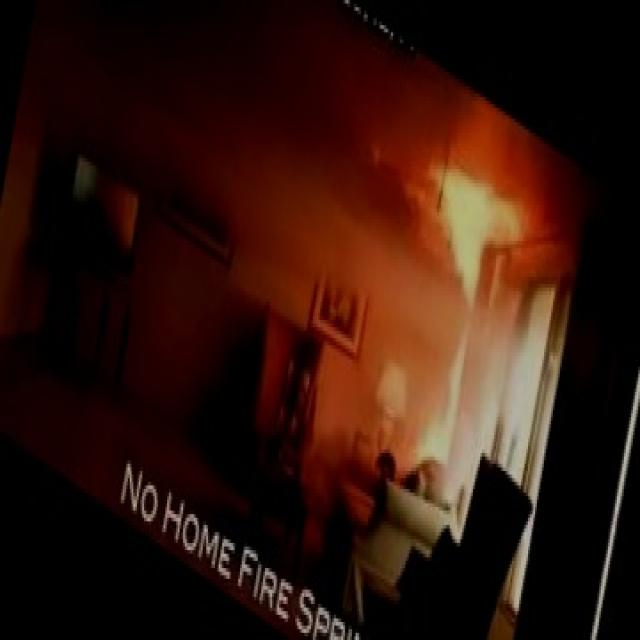fire: (372, 68, 570, 543)
